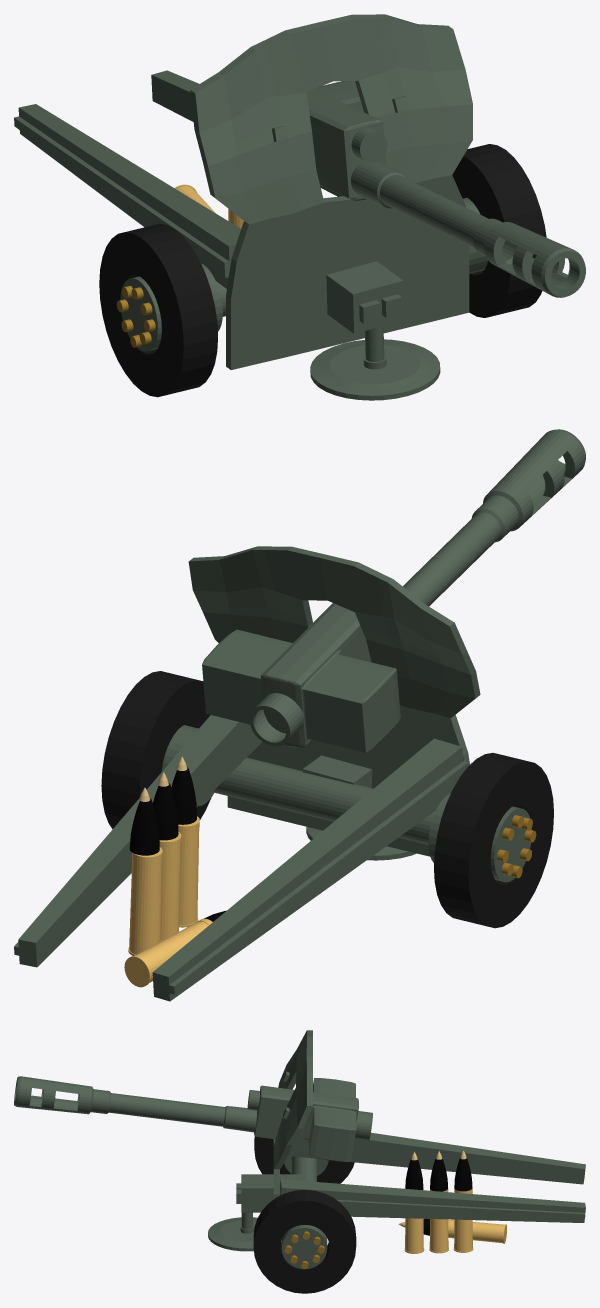
The model's file is howitzer.fbx.
3 renders of one model, top to bottom at view 1: azimuth 30°, elevation 25°; view 2: azimuth 150°, elevation 25°; view 3: azimuth 270°, elevation 25°, orthographic. The views are drawn at different scales.
Parts seen in each view (by area): view 1: Plane, tire, Cube.001, Circle.001, tire.001, Circle, Cube.003, Cube.002, wheel disk, Cube, Cylinder, wheel disk.001; view 2: Plane, Cube.003, Cube.001, tire, Cube, Circle.001, tire.001, wheel disk.002, shell bottom.002, wheel disk, shell bottom, shell bottom.003 (+6 smaller); view 3: Cube, tire.001, Cube.001, Circle.001, Cube.003, Plane, Cube.002, Circle, tire, wheel disk.001, shell bottom.003, shell bottom.002 (+7 smaller).
Boxes of the visible parts, <box> form: Plane: <box>190,14,472,369</box>; tire: <box>99,223,217,397</box>; Cube.001: <box>14,104,240,288</box>; Circle.001: <box>351,161,585,297</box>; tire.001: <box>452,144,546,317</box>; Circle: <box>310,326,440,400</box>; Cube.003: <box>306,81,386,201</box>; Cube.002: <box>326,261,404,333</box>; wheel disk: <box>120,263,222,351</box>; Cube: <box>151,70,342,196</box>; Cylinder: <box>351,127,387,163</box>; wheel disk.001: <box>463,197,487,273</box>; Plane: <box>188,546,480,856</box>; Cube.003: <box>202,603,400,752</box>; Cube.001: <box>152,738,468,1001</box>; tire: <box>434,752,553,928</box>; Cube: <box>14,715,262,967</box>; Circle.001: <box>403,429,585,606</box>; tire.001: <box>101,671,211,829</box>; wheel disk.002: <box>212,757,435,844</box>; shell bottom.002: <box>128,847,162,955</box>; wheel disk: <box>428,793,531,882</box>; shell bottom: <box>178,816,199,927</box>; shell bottom.003: <box>124,918,212,987</box>; Cube: <box>280,1179,585,1222</box>; tire.001: <box>253,1189,356,1293</box>; Cube.001: <box>288,1132,585,1184</box>; Circle.001: <box>14,1076,256,1132</box>; Cube.003: <box>254,1078,358,1161</box>; Plane: <box>273,1030,312,1198</box>; Cube.002: <box>236,1174,302,1212</box>; Circle: <box>208,1212,281,1251</box>; tire: <box>254,1136,354,1183</box>; wheel disk.001: <box>281,1225,327,1269</box>; shell bottom.003: <box>448,1219,506,1243</box>; shell bottom.002: <box>453,1187,473,1252</box>.
Size of the model in its own units: 180 by 144 by 384.
